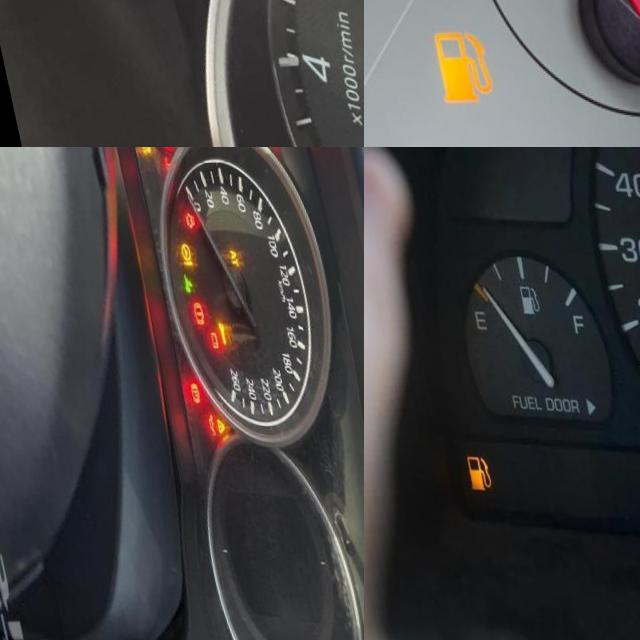Electronic Power Steering: (169, 246, 183, 269)
High Engine Coolant Temperature: (156, 158, 166, 173)
